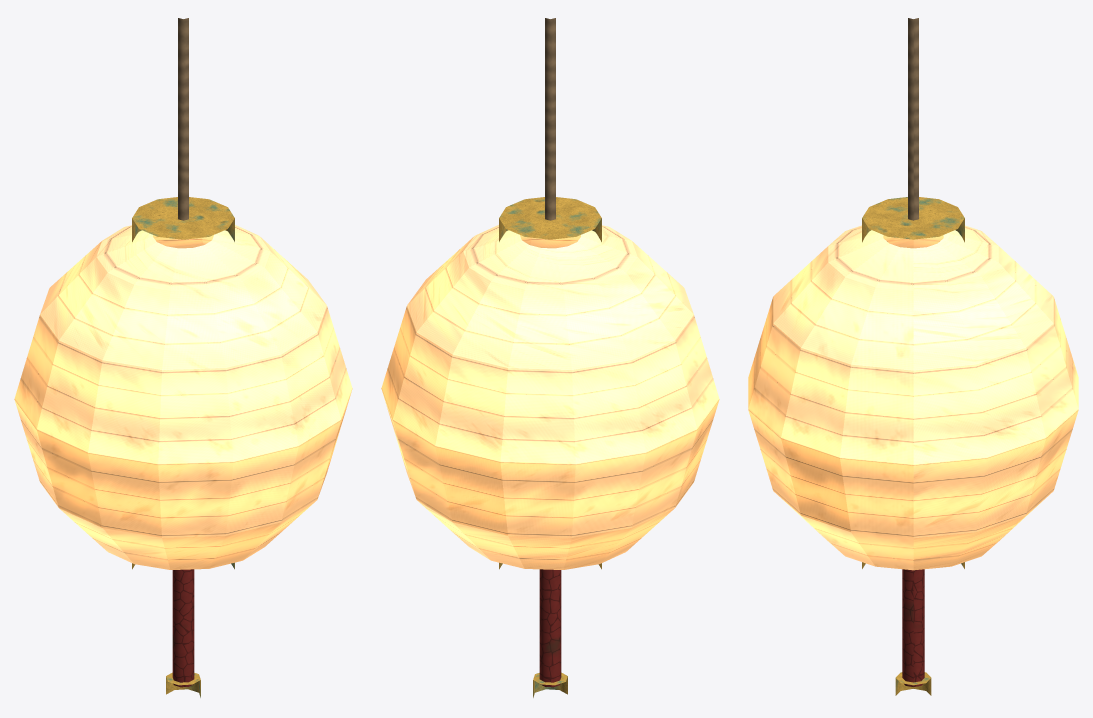
The model's file is lantern.gltf.
3 renders of one model, left to right at view 1: azimuth 30°, elevation 25°; view 2: azimuth 150°, elevation 25°; view 3: azimuth 270°, elevation 25°, orthographic.
Parts seen in each view (by area): view 1: Lantern; view 2: Lantern; view 3: Lantern.
Boxes of the visible parts, <box> form: Lantern: <box>14,18,352,697</box>; Lantern: <box>381,18,719,697</box>; Lantern: <box>748,18,1078,695</box>.
Size of the model in its own units: 0.66 by 1.46 by 0.6435.
4 materials, 4 textured.
